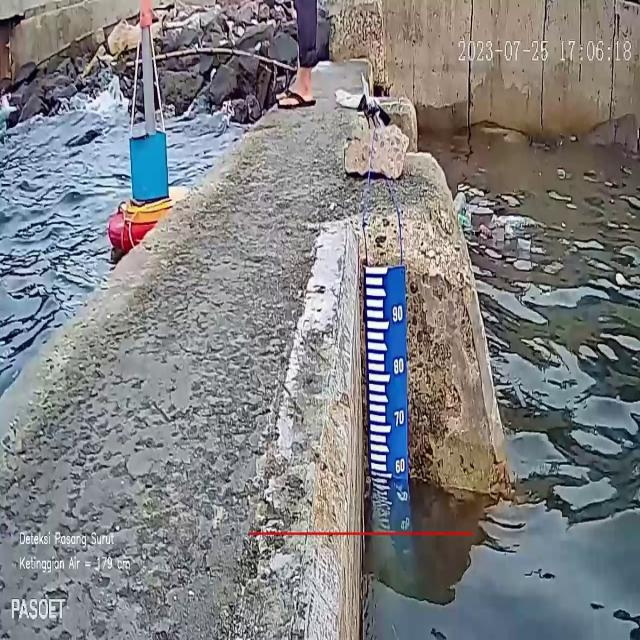water-meter: (362, 265, 408, 520)
